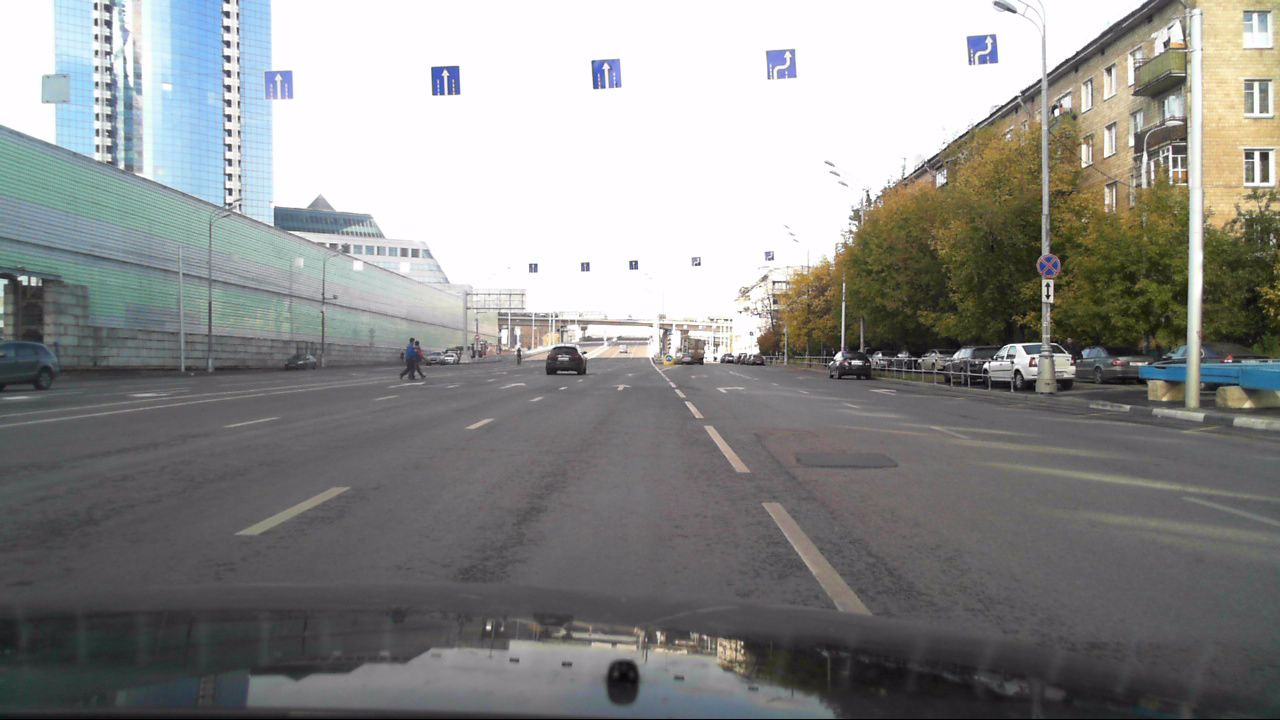No Parking: (1036, 253, 1062, 279)
